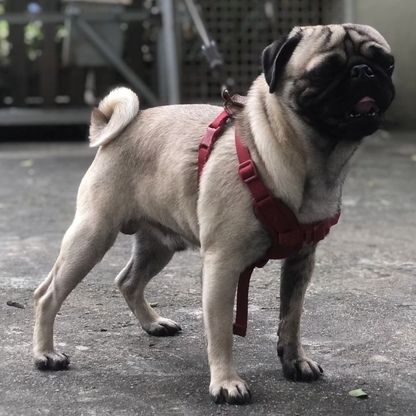Pug: (27, 19, 400, 407)
